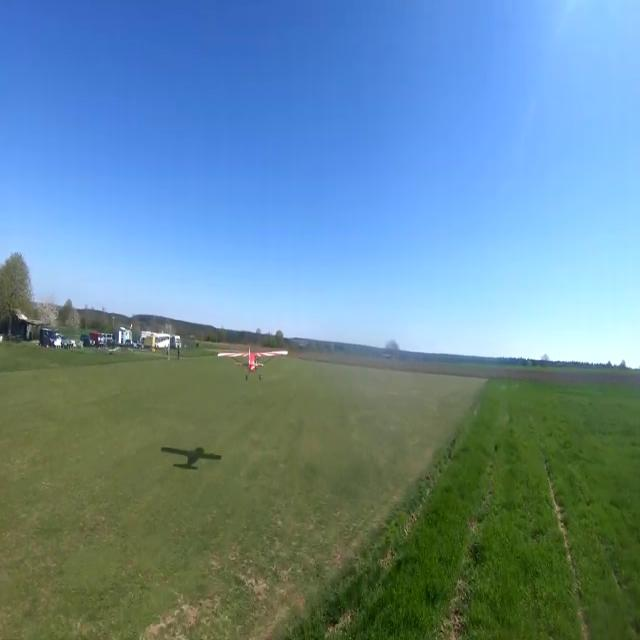iha: (252, 349, 256, 377)
